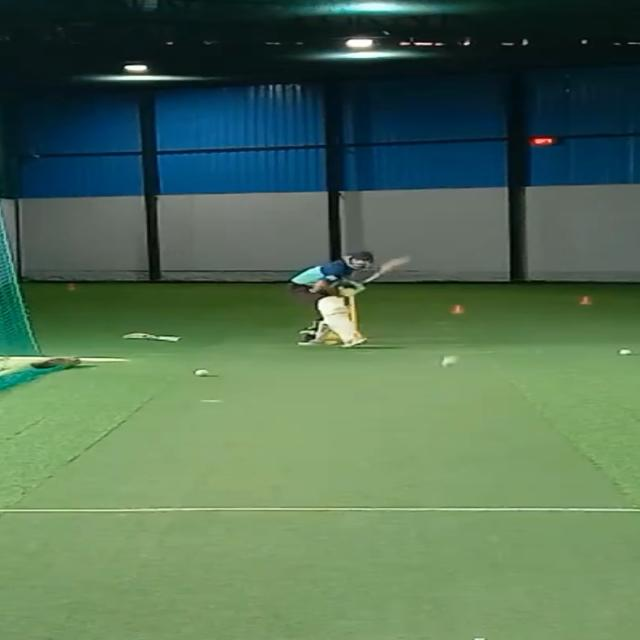ball: (438, 358, 458, 370), (192, 368, 212, 378), (616, 347, 634, 357)
